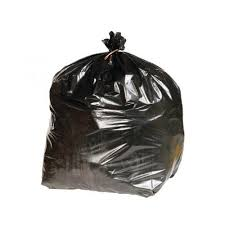Trash: (31, 29, 194, 201)
